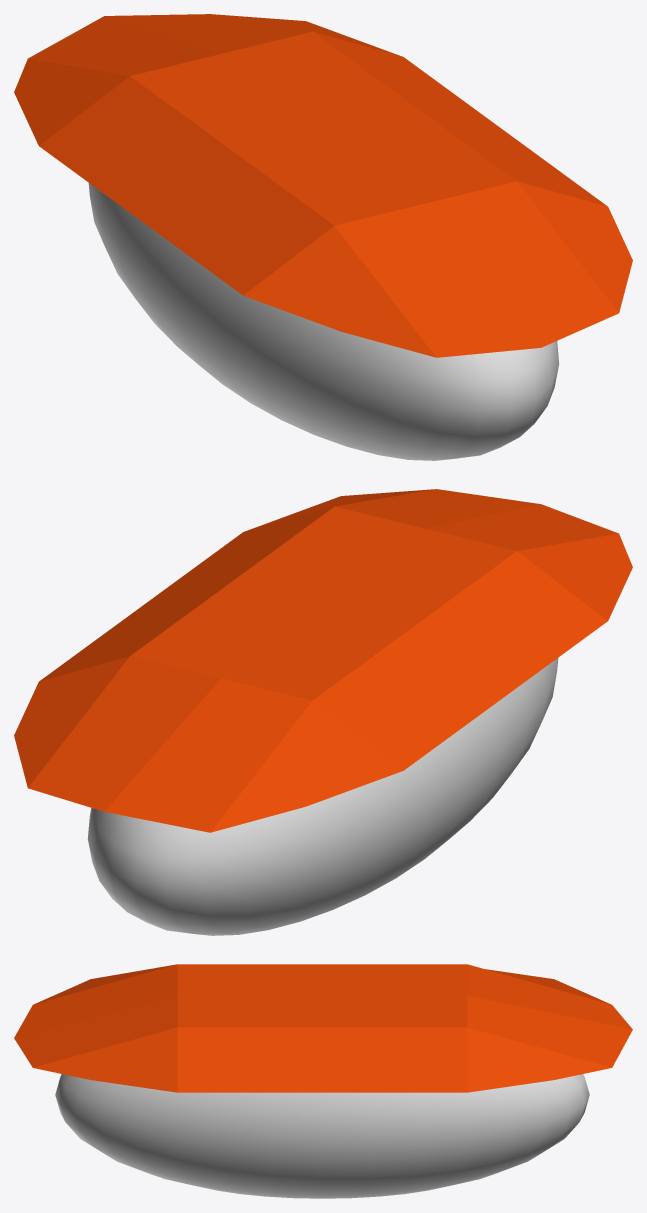
File: salmon.fbx
3 renders of one model, top to bottom at view 1: azimuth 30°, elevation 25°; view 2: azimuth 150°, elevation 25°; view 3: azimuth 270°, elevation 25°, orthographic. The views are drawn at different scales.
Visible parts, largest first — view 1: 平面, 球; view 2: 平面, 球; view 3: 平面, 球.
Boxes of the visible parts, <box> form: 平面: <box>14,14,632,357</box>; 球: <box>88,183,559,460</box>; 平面: <box>14,489,632,832</box>; 球: <box>87,658,558,935</box>; 平面: <box>14,964,632,1092</box>; 球: <box>55,1074,589,1198</box>.
Size of the model in its own units: 200 by 141 by 415.
